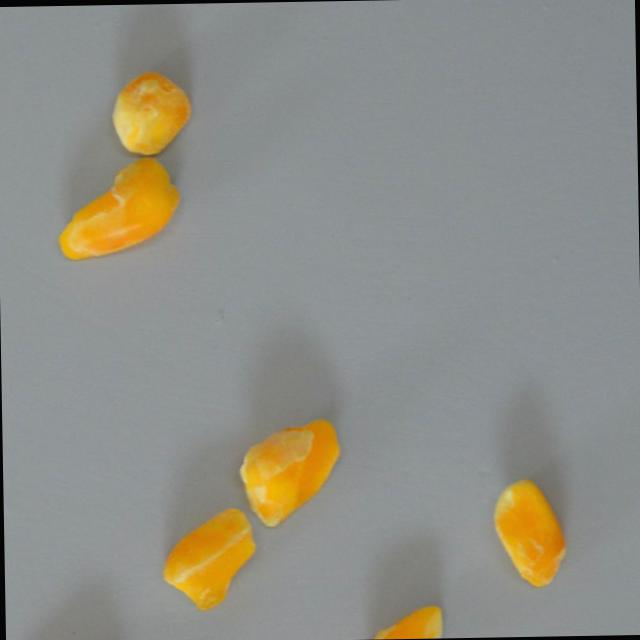pelicula: (225, 415, 357, 529), (82, 49, 214, 157), (52, 154, 183, 262), (154, 506, 265, 613), (476, 474, 579, 586)
